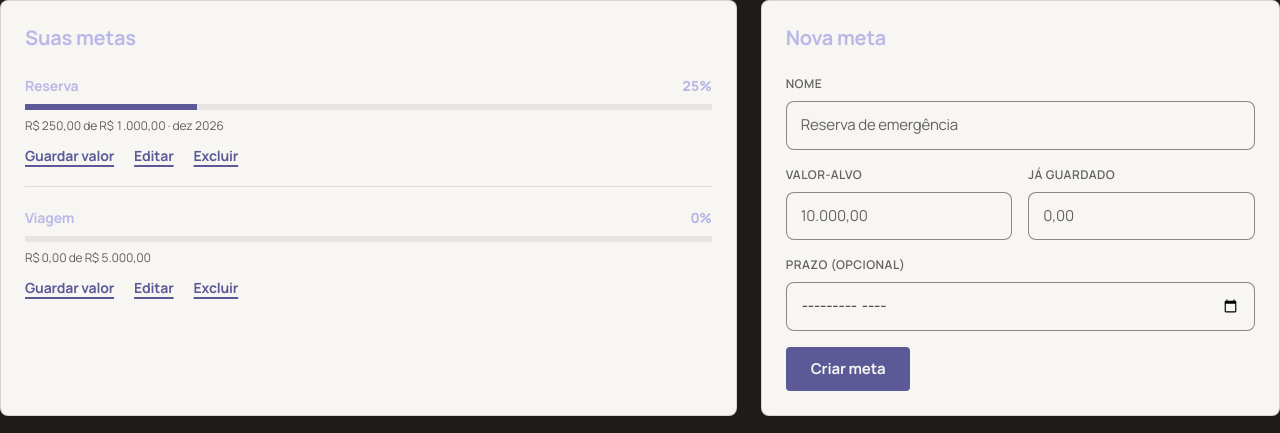
Scenario: GoalsPage › cancels an edit
Click the button named "Editar Reserva": (154, 156) [134,146,174,166]
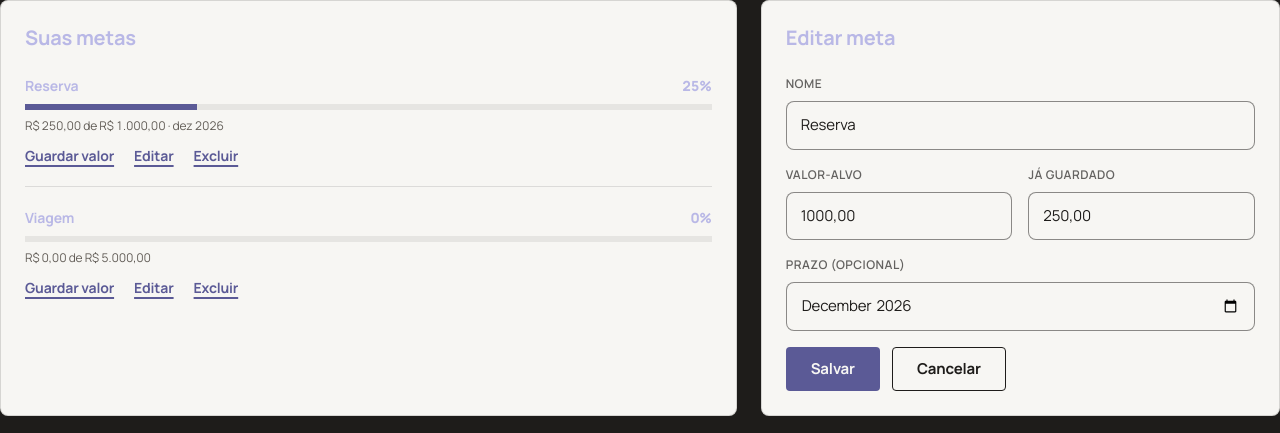
Click the button "Cancelar": (949, 368) [892,346,1006,390]
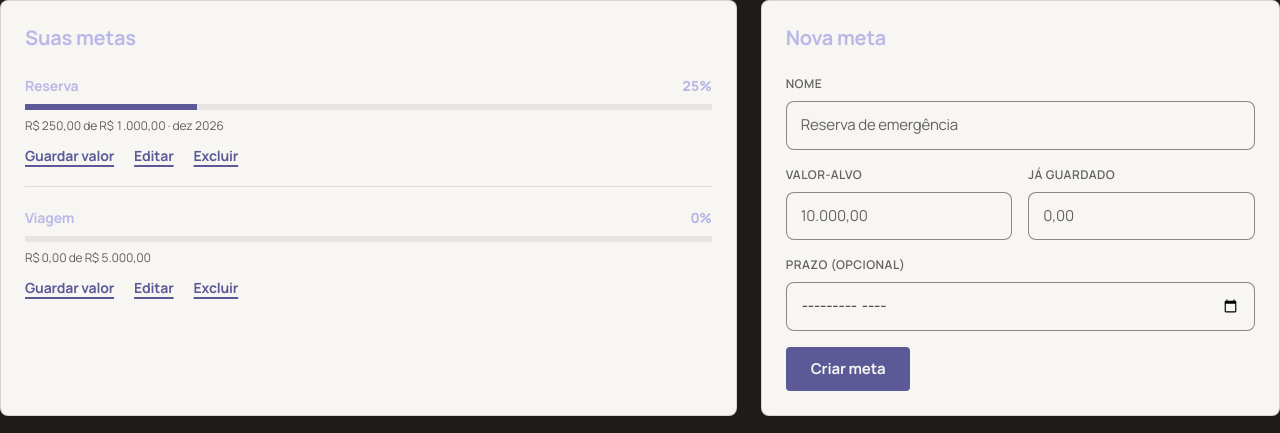
Result: the heading "Nova meta" is shown at [786,25,886,51]
Result: the field labelled "Nome" is empty at [786,101,1255,150]
